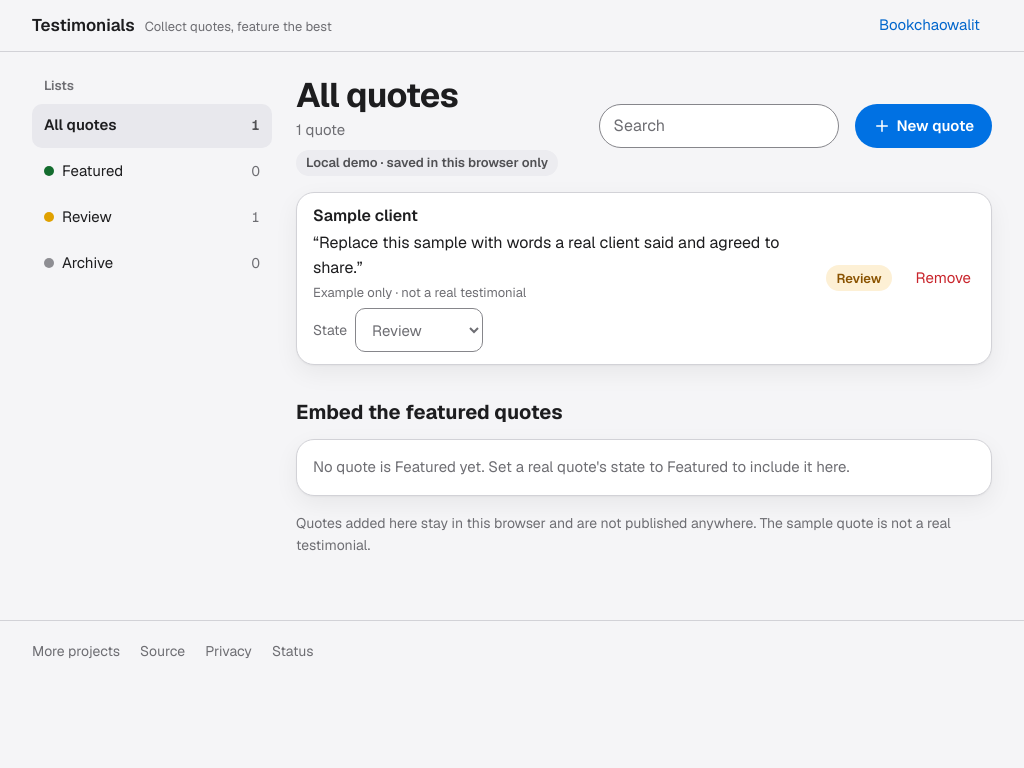
Test: lists, search, state and remove › Remove offers Undo; the toast closes on its own and on Escape
Later steps or results of the test are not shown.
Step 1. Click the button "Remove" → (943, 278), box [904,256,983,300]
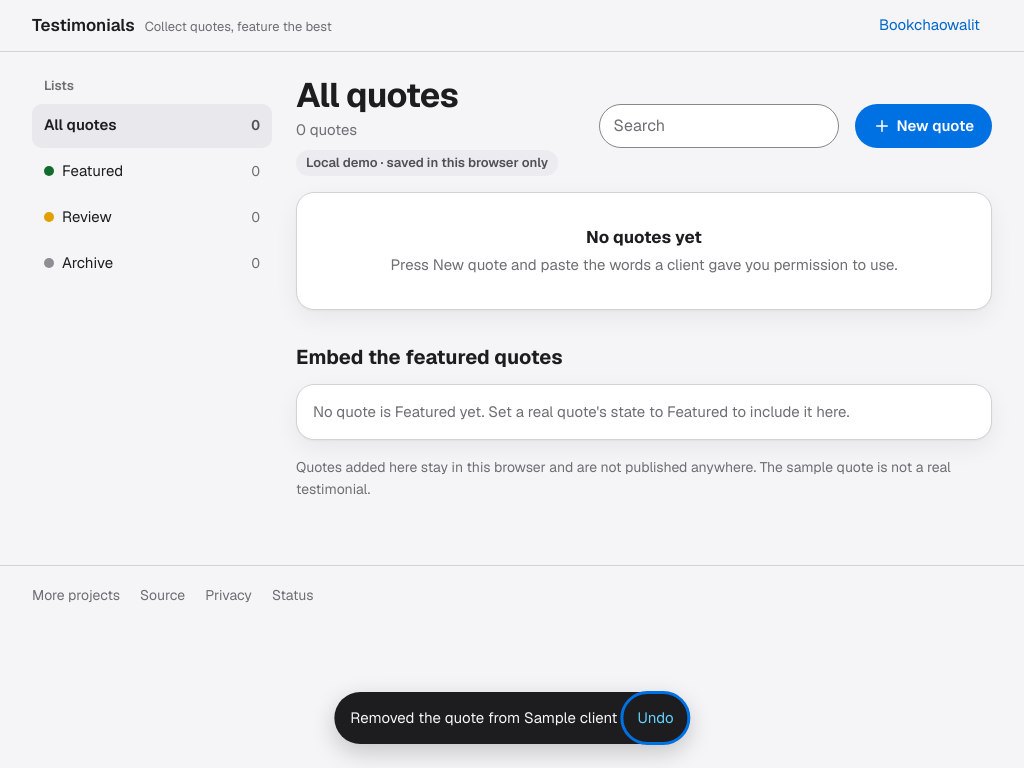
Check: the element with class "as-empty" shows "No quotes yet", box [586,226,702,248]
Check: the button "Undo" is shown, box [625,696,686,740]
